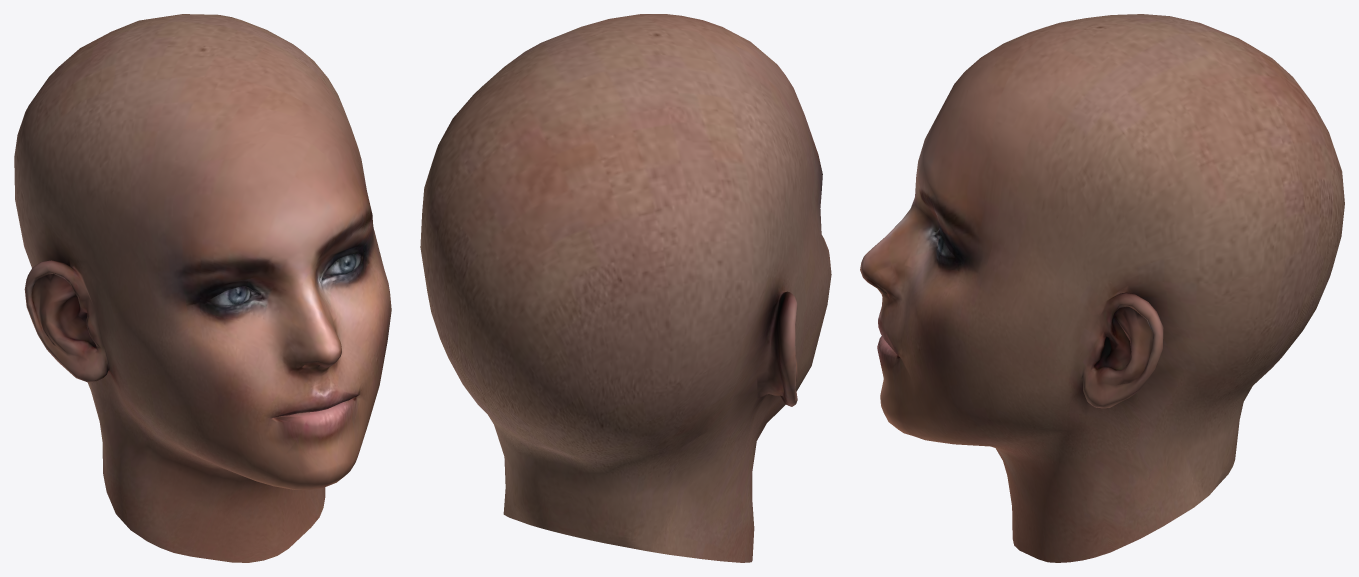
The model's file is krasue_head.glb.
3 renders of one model, left to right at view 1: azimuth 30°, elevation 25°; view 2: azimuth 150°, elevation 25°; view 3: azimuth 270°, elevation 25°, orthographic. The views are drawn at different scales.
Parts seen in each view (by area): view 1: Head; view 2: Head; view 3: Head.
Part boxes in pixels (<box>): Head: <box>14,14,391,562</box>; Head: <box>420,14,831,562</box>; Head: <box>860,14,1344,562</box>.
Bounding box in the file's own units: 0.176 × 0.25 × 0.2177.
Materials: 1 (1 with a texture image).
